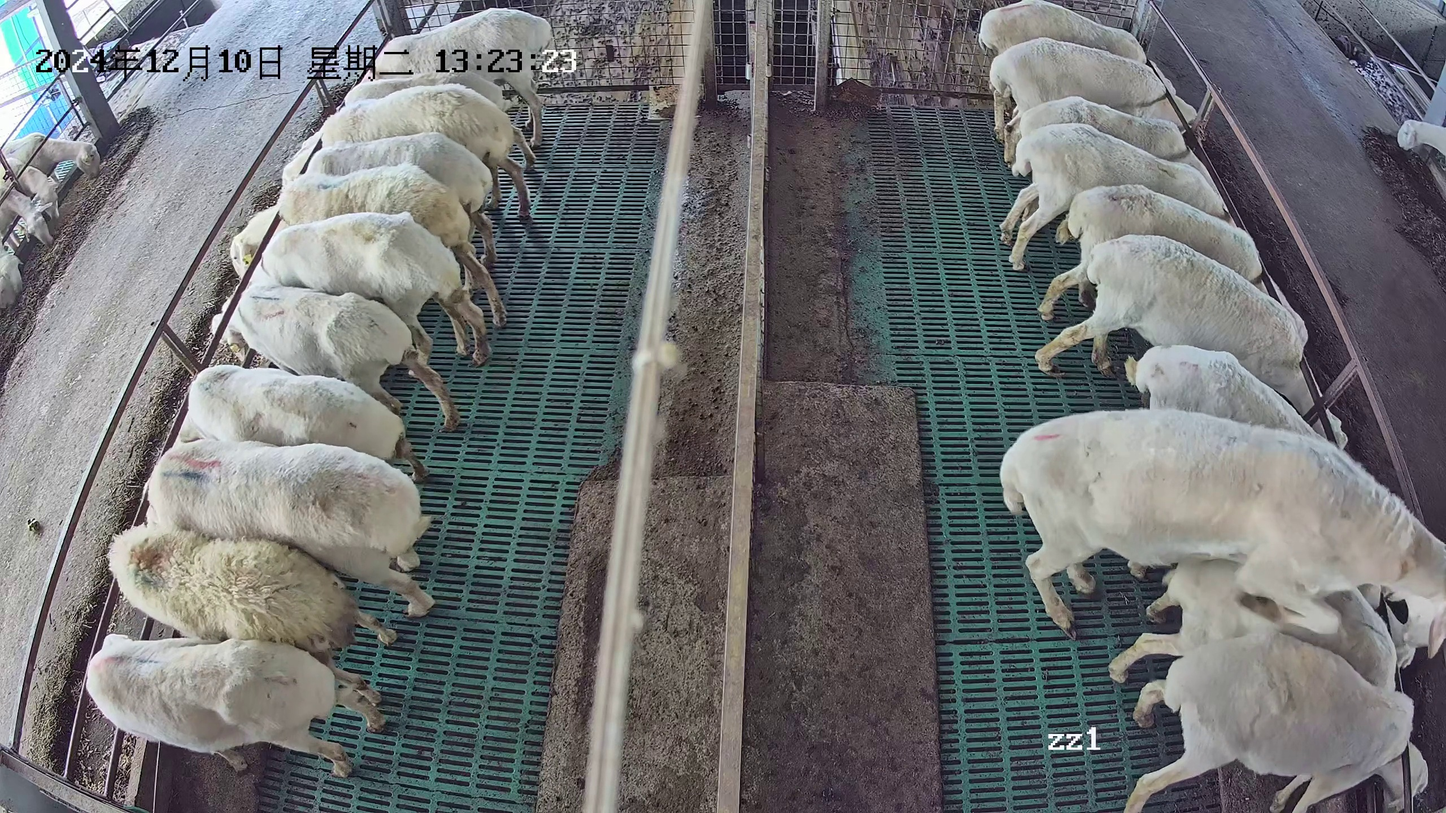Smounting: (996, 406, 1446, 689)
mounted: (1105, 556, 1399, 685)
